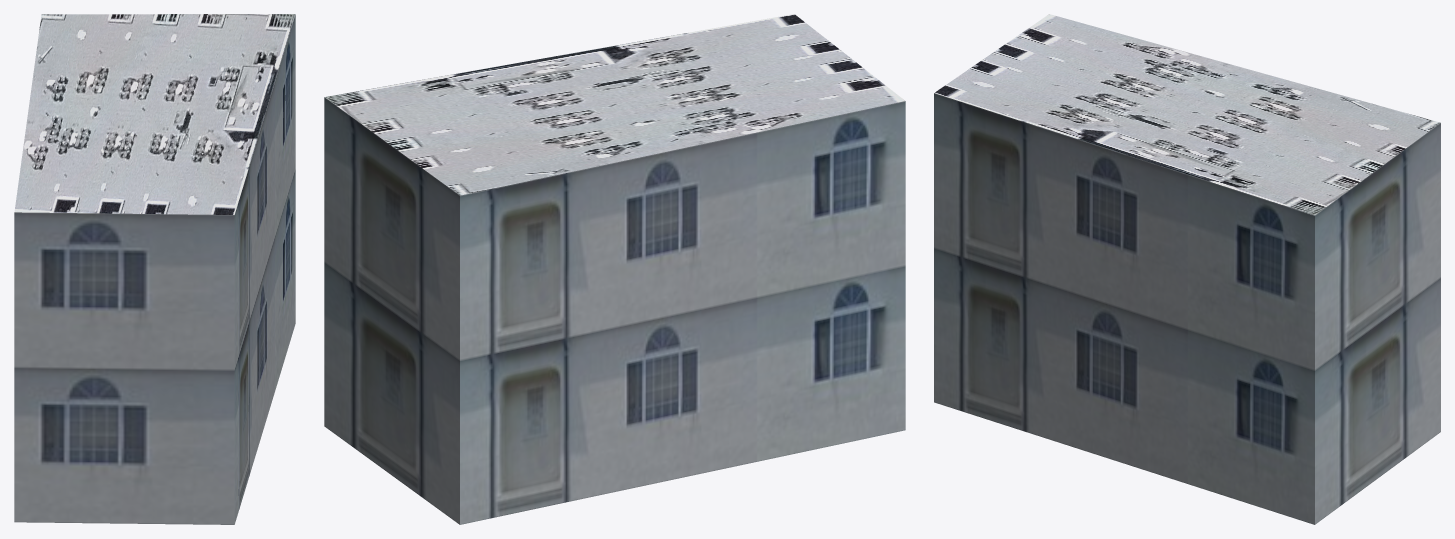
File: ResTex__2783.fbx
3 renders of one model, left to right at view 1: azimuth 30°, elevation 25°; view 2: azimuth 150°, elevation 25°; view 3: azimuth 270°, elevation 25°, orthographic. The views are drawn at different scales.
Parts seen in each view (by area): view 1: CityEngineMaterial_17_m, CityEngineMaterial_m; view 2: CityEngineMaterial_17_m, CityEngineMaterial_m; view 3: CityEngineMaterial_17_m, CityEngineMaterial_m.
Part boxes in pixels (left/top/right/bottom): CityEngineMaterial_17_m: left=14, top=14, right=295, bottom=524; CityEngineMaterial_m: left=14, top=14, right=295, bottom=214; CityEngineMaterial_17_m: left=324, top=97, right=905, bottom=524; CityEngineMaterial_m: left=324, top=14, right=904, bottom=195; CityEngineMaterial_17_m: left=934, top=93, right=1440, bottom=524; CityEngineMaterial_m: left=934, top=14, right=1440, bottom=215.
Size of the model in its own units: 8.39 by 6 by 8.91.
2 materials, 2 textured.
